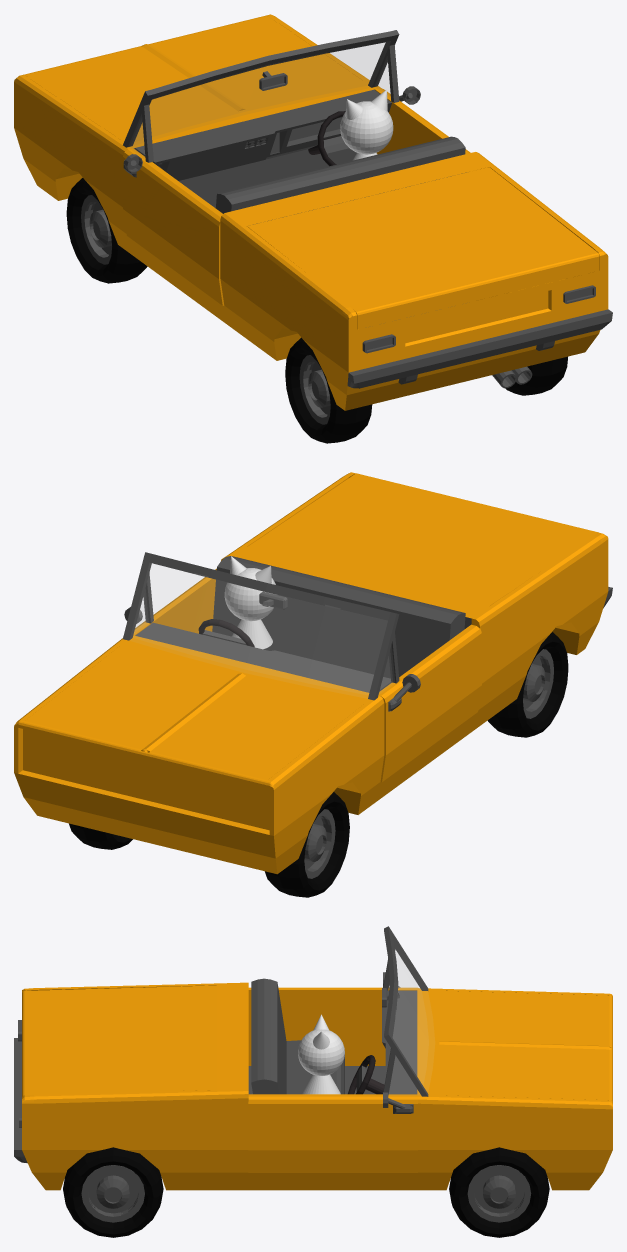
Rendered from assets.glb.
3 renders of one model, top to bottom at view 1: azimuth 30°, elevation 25°; view 2: azimuth 150°, elevation 25°; view 3: azimuth 270°, elevation 25°, orthographic. The views are drawn at different scales.
Visible parts, largest first — view 1: GN Instance (×2), Rueda 4_0, Rueda 2_0, Sphere, Rin 2_0, Rin 4_0, Rueda 3_0; view 2: GN Instance (×2), Rueda 2_0, Rueda 4_0, Rin 2_0, Rin 4_0, Sphere, Rueda 1_0, Cone.002; view 3: GN Instance (×2), Rueda 3_0, Rueda 1_0, Rin 1_0, Rin 3_0, Sphere, Cone.002.
Boxes of the visible parts, x1,y1,x2,y2 form: GN Instance (×2): (14, 14, 612, 410); Rueda 4_0: (285, 337, 372, 443); Rueda 2_0: (66, 178, 147, 283); Sphere: (340, 101, 393, 154); Rin 2_0: (81, 195, 111, 264); Rin 4_0: (299, 355, 330, 424); Rueda 3_0: (505, 356, 567, 395); GN Instance (×2): (14, 472, 612, 874); Rueda 2_0: (265, 792, 349, 897); Rueda 4_0: (487, 632, 568, 737); Rin 2_0: (304, 809, 335, 878); Rin 4_0: (523, 649, 553, 718); Sphere: (224, 568, 276, 621); Rueda 1_0: (69, 823, 132, 849); Cone.002: (232, 619, 272, 649); GN Instance (×2): (14, 926, 612, 1190); Rueda 3_0: (63, 1147, 163, 1237); Rueda 1_0: (449, 1147, 549, 1237); Rin 1_0: (467, 1165, 531, 1222); Rin 3_0: (81, 1165, 144, 1222); Sphere: (298, 1029, 344, 1075); Cone.002: (302, 1074, 340, 1094).
Bounding box in the file's own units: 1.98 × 1.56 × 3.96.
